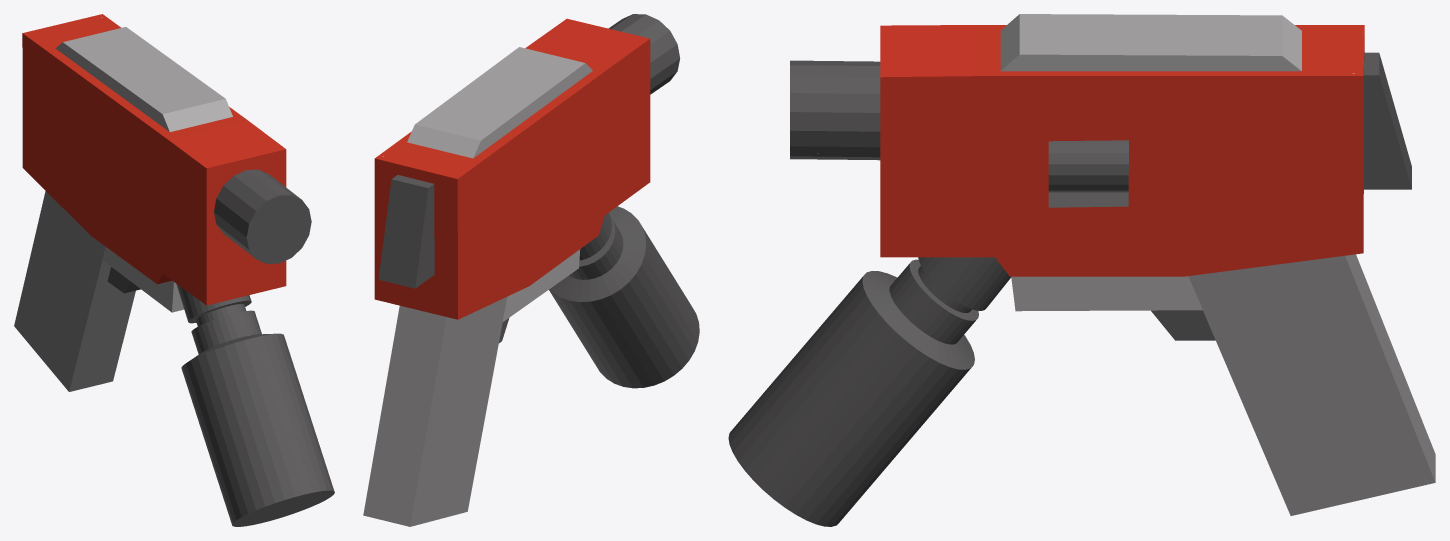
The model's file is grappy.fbx.
3 renders of one model, left to right at view 1: azimuth 30°, elevation 25°; view 2: azimuth 150°, elevation 25°; view 3: azimuth 270°, elevation 25°, orthographic. The views are drawn at different scales.
Visible parts, largest first — view 1: BezierCurve; view 2: BezierCurve; view 3: BezierCurve.
Boxes of the visible parts, box(x1,y1,x2,y2) form: BezierCurve: box(14, 14, 334, 526); BezierCurve: box(363, 14, 699, 526); BezierCurve: box(728, 14, 1435, 526).
Bounding box in the file's own units: 25.98 × 96.97 × 129.
